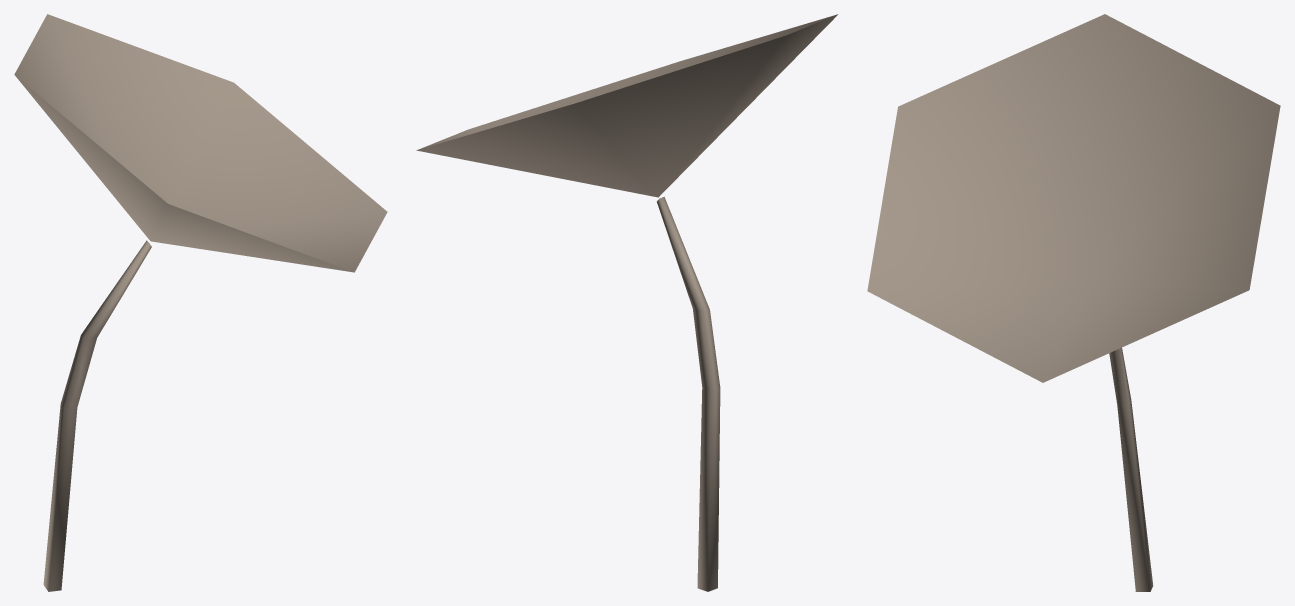
File: Flower_2.glb
3 renders of one model, left to right at view 1: azimuth 30°, elevation 25°; view 2: azimuth 150°, elevation 25°; view 3: azimuth 270°, elevation 25°, orthographic. The views are drawn at different scales.
Parts seen in each view (by area): view 1: Flowers; view 2: Flowers; view 3: Flowers.
Boxes of the visible parts, left/top/right/bottom form: Flowers: left=14, top=14, right=387, bottom=591; Flowers: left=416, top=14, right=838, bottom=591; Flowers: left=867, top=14, right=1280, bottom=591.
Size of the model in its own units: 0.239 by 0.3613 by 0.2473.
